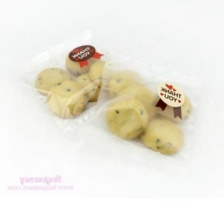snack: (68, 44, 220, 171), (10, 22, 132, 140)
